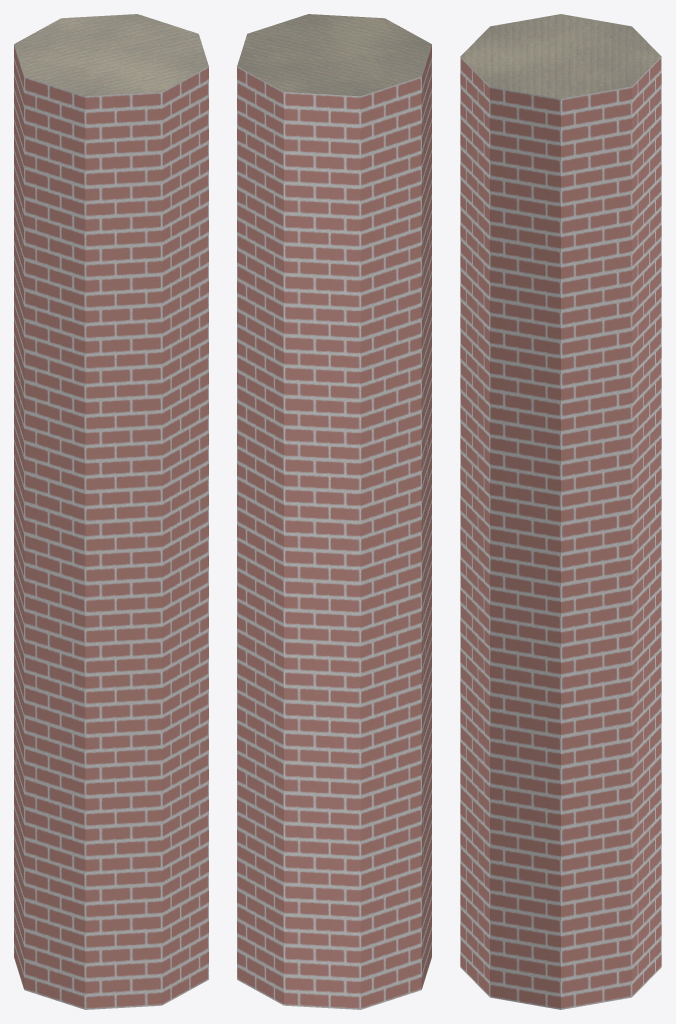
The model's file is smokeStack01.glb.
The picture shows the model from 3 angles, left to right: view 1: azimuth 30°, elevation 25°; view 2: azimuth 150°, elevation 25°; view 3: azimuth 270°, elevation 25°; orthographic projection.
Parts seen in each view (by area): view 1: smokeStack01; view 2: smokeStack01; view 3: smokeStack01.
Part boxes in pixels (x1,y1,x2,y2): smokeStack01: [14, 14, 208, 1009]; smokeStack01: [237, 14, 431, 1009]; smokeStack01: [460, 14, 661, 1009].
Bounding box in the file's own units: 787 × 3937 × 787.
2 materials, 2 textured.
